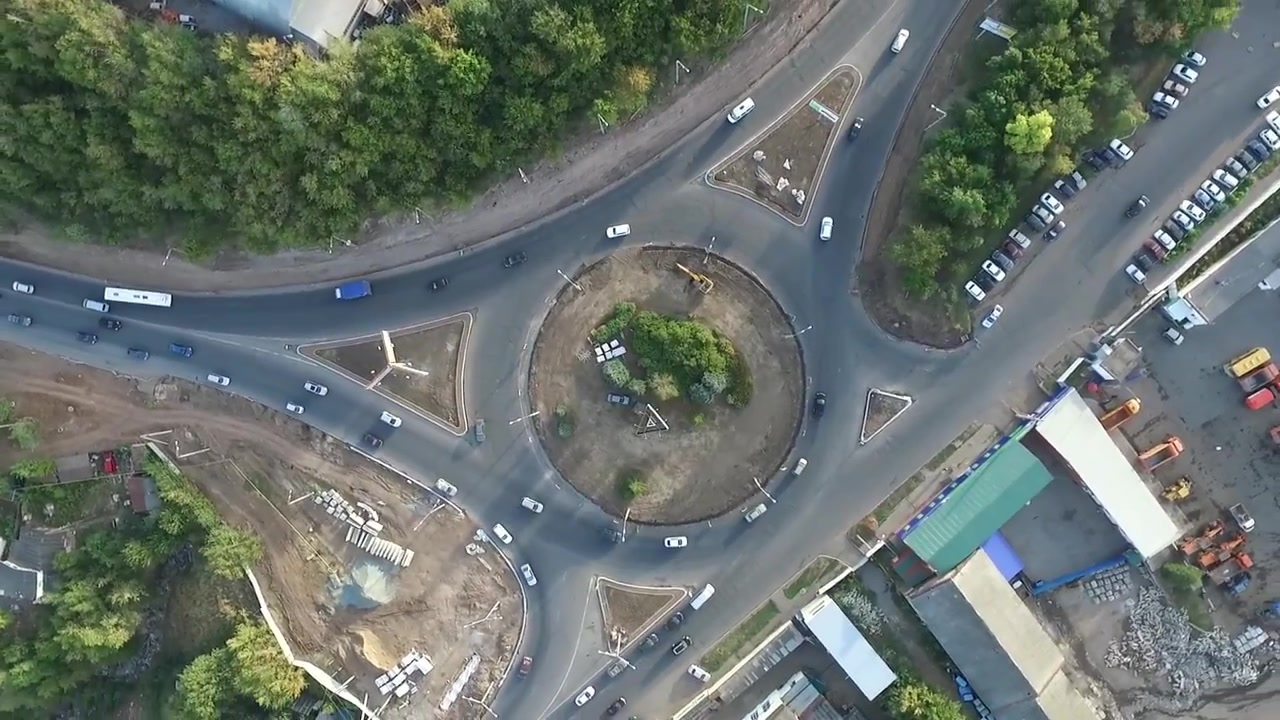car: (1207, 551, 1255, 587), (1222, 345, 1272, 379), (1138, 435, 1185, 471), (1099, 395, 1141, 433), (103, 286, 172, 308), (1240, 361, 1280, 392), (1244, 381, 1280, 410), (331, 279, 373, 302), (725, 95, 757, 125), (1229, 502, 1257, 533), (689, 581, 716, 613), (981, 303, 1005, 332), (1125, 193, 1150, 220), (889, 26, 911, 55), (1170, 63, 1199, 85), (1151, 226, 1176, 251), (1042, 217, 1066, 243), (1256, 84, 1280, 110), (603, 656, 629, 680), (1179, 199, 1206, 222), (1199, 180, 1226, 203), (1246, 137, 1271, 161), (668, 634, 694, 657), (685, 662, 712, 684), (1152, 91, 1181, 111), (990, 249, 1015, 272), (743, 501, 768, 524), (490, 522, 515, 545), (1108, 138, 1134, 160), (1162, 79, 1190, 99), (501, 250, 529, 270), (810, 390, 828, 421), (963, 279, 986, 303), (635, 631, 659, 654), (1007, 228, 1032, 250), (1145, 101, 1172, 121), (604, 695, 627, 718), (574, 684, 597, 707), (981, 259, 1005, 281), (1171, 209, 1195, 231), (1224, 157, 1248, 179), (1235, 147, 1257, 171), (1258, 127, 1280, 151), (1040, 193, 1065, 214), (1213, 168, 1238, 189), (846, 116, 865, 143), (432, 478, 459, 497), (515, 654, 534, 681), (662, 610, 685, 632), (604, 221, 632, 239), (1161, 326, 1185, 347), (519, 496, 544, 516), (378, 410, 403, 430), (520, 562, 539, 588), (303, 379, 329, 398), (1032, 203, 1054, 225), (1053, 178, 1075, 200), (1124, 263, 1146, 285), (1001, 240, 1024, 261), (1023, 212, 1046, 233), (80, 297, 110, 313), (425, 275, 450, 294), (1181, 49, 1207, 67), (1163, 220, 1185, 241), (1194, 189, 1215, 211), (972, 271, 995, 291), (1067, 168, 1087, 191), (1082, 151, 1105, 171), (789, 456, 809, 479), (362, 431, 385, 450), (818, 215, 834, 242), (6, 312, 33, 328), (168, 342, 193, 359), (1144, 239, 1165, 259), (1265, 110, 1280, 138), (1095, 146, 1117, 165), (662, 534, 688, 550), (206, 372, 232, 388), (599, 528, 624, 544), (474, 416, 488, 444), (96, 317, 122, 332), (127, 346, 150, 362), (1135, 251, 1154, 270), (101, 450, 115, 475), (10, 280, 35, 294), (284, 401, 306, 416), (606, 392, 631, 405), (76, 331, 98, 345)
